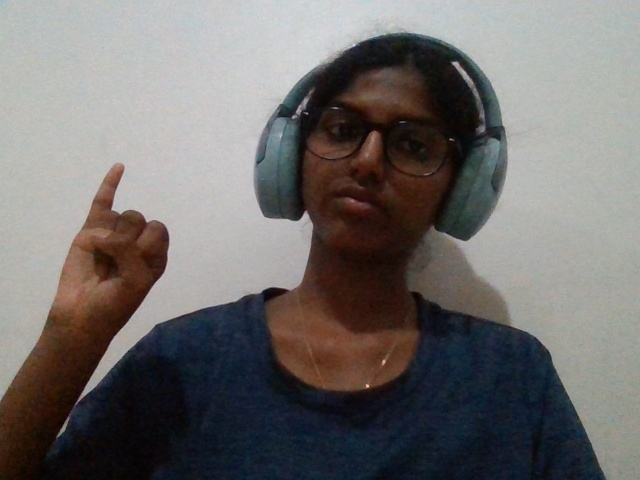I: (19, 144, 213, 389)
